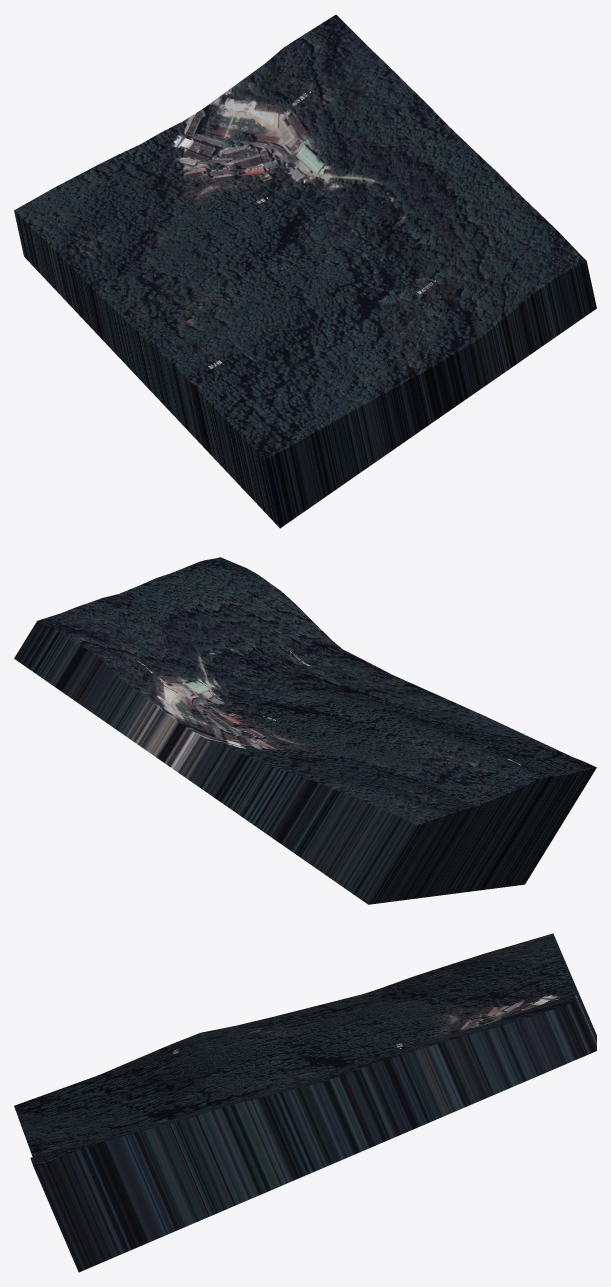
The picture shows the model from 3 angles, top to bottom: view 1: azimuth 30°, elevation 25°; view 2: azimuth 150°, elevation 25°; view 3: azimuth 270°, elevation 25°; orthographic projection. The views are drawn at different scales.
Visible parts, largest first — view 1: 0_2_17; view 2: 0_2_17; view 3: 0_2_17.
Boxes of the visible parts, bbox=[...] form: 0_2_17: bbox=[14, 15, 596, 528]; 0_2_17: bbox=[14, 557, 596, 904]; 0_2_17: bbox=[14, 933, 596, 1272].
Bounding box in the file's own units: 634 × 475 × 610.
Materials: 1 (1 with a texture image).
